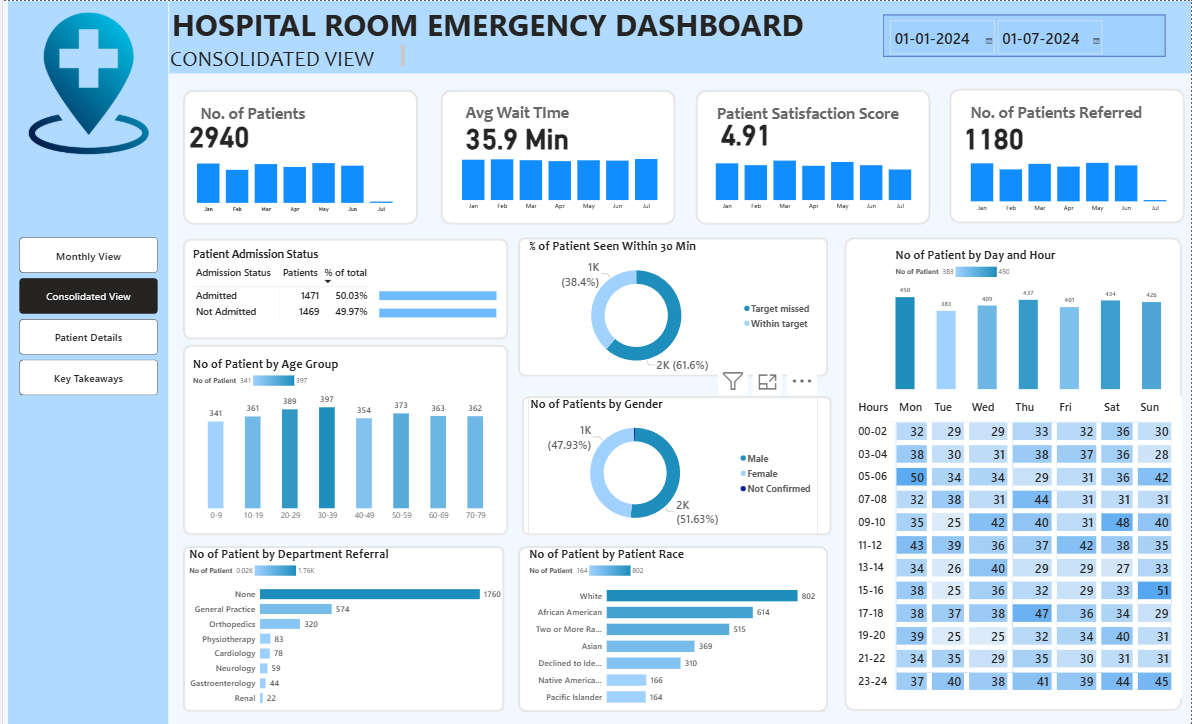

What the dashboard file says about the page in this screenshot:
{"tool":"powerbi","page":{"name":"Consolidated View","canvas":[2300,1400],"ordinal":1},"visuals":[{"type":"shape","box":[9.9,0,310,1400.5],"z":0},{"type":"shape","box":[320.5,0,1980,140],"z":1000},{"type":"textbox","box":[320.5,0,1262.4,108.5],"z":2000},{"type":"shape","box":[347.7,172.6,455,261.4],"z":3000},{"type":"textbox","box":[319.5,80.5,463.4,56.1],"z":4000},{"type":"card","fields":{"Values":["Hospital ER_Data.No of Patient"]},"box":[244.3,171.8,348.3,171.8],"z":5000},{"type":"slicer","fields":{"Values":["Date Table.Date"]},"box":[1702.4,26.8,546.3,80.5],"z":6000},{"type":"textbox","box":[377.3,192.3,214.5,54.2],"z":7000},{"type":"columnChart","fields":{"Category":["Date Table.Month Name"],"Y":["Hospital ER_Data.No of Patient"]},"box":[347.7,288.5,434,130],"z":8000},{"type":"shape","box":[846.9,170.8,455,261.4],"z":9000},{"type":"textbox","box":[890.3,190.5,214.5,54.2],"z":10000},{"type":"columnChart","fields":{"Category":["Date Table.Month Name"],"Y":["Avg(Hospital ER_Data.Patient Waittime)"]},"box":[860.7,286.7,434,130],"z":11000},{"type":"shape","box":[1340.3,170.9,455,261.4],"z":12000},{"type":"textbox","box":[1376.5,192.6,388.9,55.2],"z":13000},{"type":"columnChart","fields":{"Category":["Date Table.Month Name"],"Y":["Hospital ER_Data.Satisfaction score"]},"box":[1351.4,285.4,434,130],"z":14000},{"type":"shape","box":[1832,170.1,456.2,261.4],"z":15000},{"type":"textbox","box":[1866.5,190.7,383.8,55.2],"z":16000},{"type":"columnChart","fields":{"Category":["Date Table.Month Name"],"Y":["Hospital ER_Data.No of Patient"]},"box":[1845.4,286.9,434,130],"z":17000},{"type":"card","fields":{"Values":["Hospital ER_Data.Avg Wait Tmme"]},"box":[822.5,174.2,345.9,171.8],"z":18000},{"type":"shape","box":[348.7,459.1,629.7,195.7],"z":19000},{"type":"card","fields":{"Values":["Hospital ER_Data.Satisfaction score"]},"box":[1264.4,168.1,346.2,173.1],"z":20000},{"type":"card","fields":{"Values":["Hospital ER_Data.No of Patient Referred"]},"box":[1743.6,173.1,346.2,173.1],"z":21000},{"type":"pivotTable","title":"Patient Admission Status","fields":{"Rows":["Hospital ER_Data.Admission Status"],"Values":["Hospital ER_Data.No of Patient","Divide(Hospital ER_Data.No of Patient, ScopedEval(Hospital ER_Data.No of Patient, []))"]},"box":[363.8,476.7,602.1,160.6],"z":22000},{"type":"barChart","fields":{"Category":["Hospital ER_Data.Admission Status"],"Y":["Hospital ER_Data.No of Patient"]},"box":[724.4,531.7,241.5,104.9],"z":23000},{"type":"shape","box":[348.7,665.8,629.7,368.8],"z":24000},{"type":"clusteredColumnChart","fields":{"Category":["Hospital ER_Data.Age Group"],"Y":["Hospital ER_Data.No of Patient"]},"box":[363.8,685.9,602.1,328.6],"z":25000},{"type":"shape","box":[348.7,1053.7,622.2,321.1],"z":26000},{"type":"clusteredBarChart","fields":{"Category":["Hospital ER_Data.Department Referral"],"Y":["Hospital ER_Data.No of Patient"]},"box":[356.2,1053.7,614.6,321.1],"z":27000},{"type":"shape","box":[996.6,457.2,600,270],"z":28000},{"type":"donutChart","title":"% of Patient Seen Within 30 Min","fields":{"Category":["Hospital ER_Data.Waittime Status"],"Y":["Hospital ER_Data.No of Patient"]},"box":[1013.6,459.6,561.2,268.5],"z":29000},{"type":"shape","box":[1002.7,763.8,600,270],"z":30000},{"type":"donutChart","title":"No of Patients by Gender","fields":{"Category":["Hospital ER_Data.Patient Gender"],"Y":["Hospital ER_Data.No of Patient"]},"box":[1016.6,763.9,561,268.3],"z":31000},{"type":"shape","box":[997.6,1053.7,600,322],"z":32000},{"type":"clusteredBarChart","fields":{"Category":["Hospital ER_Data.Patient Race"],"Y":["Hospital ER_Data.No of Patient"]},"box":[1014.6,1053.7,568.3,322],"z":33000},{"type":"shape","box":[1626.8,456.1,653.7,917.1],"z":34000},{"type":"pivotTable","fields":{"Columns":["Date Table.Day Name"],"Rows":["Hospital ER_Data.Waittime Interval"],"Values":["Hospital ER_Data.No of Patient"]},"box":[1643.9,763.4,636.6,585.4],"z":35000},{"type":"columnChart","title":"No of Patient by Day and Hour","fields":{"Category":["Date Table.Day Name"],"Y":["Hospital ER_Data.No of Patient"]},"box":[1722,475.6,526.8,280.5],"z":36000},{"type":"image","box":[22,17.1,287.8,285.4],"z":37000},{"type":"pageNavigator","box":[31.7,456.1,268.3,309.8],"z":38000}]}

Visuals, with their boxes in screenshot pixels (x1, y1, x2, y2), scaled from the page's 2300x1400 canvas onto the 1192x724 screenshot:
shape: bbox(5, 0, 166, 723)
shape: bbox(166, 0, 1191, 72)
textbox: bbox(166, 0, 820, 56)
shape: bbox(180, 89, 416, 224)
textbox: bbox(166, 42, 406, 71)
card - Hospital ER_Data.No of Patient: bbox(127, 89, 307, 178)
slicer - Date Table.Date: bbox(882, 14, 1165, 55)
textbox: bbox(196, 99, 307, 127)
columnChart - Date Table.Month Name x Hospital ER_Data.No of Patient: bbox(180, 149, 405, 216)
shape: bbox(439, 88, 675, 224)
textbox: bbox(461, 99, 573, 127)
columnChart - Date Table.Month Name x Avg(Hospital ER_Data.Patient Waittime): bbox(446, 148, 671, 215)
shape: bbox(695, 88, 930, 224)
textbox: bbox(713, 100, 915, 128)
columnChart - Date Table.Month Name x Hospital ER_Data.Satisfaction score: bbox(700, 148, 925, 215)
shape: bbox(949, 88, 1186, 223)
textbox: bbox(967, 99, 1166, 127)
columnChart - Date Table.Month Name x Hospital ER_Data.No of Patient: bbox(956, 148, 1181, 216)
card - Hospital ER_Data.Avg Wait Tmme: bbox(426, 90, 606, 179)
shape: bbox(181, 237, 507, 339)
card - Hospital ER_Data.Satisfaction score: bbox(655, 87, 835, 176)
card - Hospital ER_Data.No of Patient Referred: bbox(904, 90, 1083, 179)
"Patient Admission Status" pivotTable: bbox(189, 247, 501, 330)
barChart - Hospital ER_Data.Admission Status x Hospital ER_Data.No of Patient: bbox(375, 275, 501, 329)
shape: bbox(181, 344, 507, 535)
clusteredColumnChart - Hospital ER_Data.Age Group x Hospital ER_Data.No of Patient: bbox(189, 355, 501, 525)
shape: bbox(181, 545, 503, 711)
clusteredBarChart - Hospital ER_Data.Department Referral x Hospital ER_Data.No of Patient: bbox(185, 545, 503, 711)
shape: bbox(516, 236, 827, 376)
"% of Patient Seen Within 30 Min" donutChart: bbox(525, 238, 816, 377)
shape: bbox(520, 395, 831, 535)
"No of Patients by Gender" donutChart: bbox(527, 395, 818, 534)
shape: bbox(517, 545, 828, 711)
clusteredBarChart - Hospital ER_Data.Patient Race x Hospital ER_Data.No of Patient: bbox(526, 545, 820, 711)
shape: bbox(843, 236, 1182, 710)
pivotTable - Date Table.Day Name x Hospital ER_Data.Waittime Interval: bbox(852, 395, 1182, 698)
"No of Patient by Day and Hour" columnChart: bbox(892, 246, 1165, 391)
image: bbox(11, 9, 161, 156)
pageNavigator: bbox(16, 236, 155, 396)
